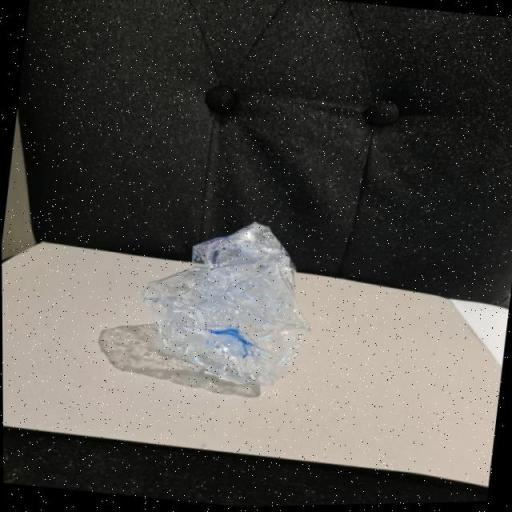plastic: (124, 208, 342, 414)
